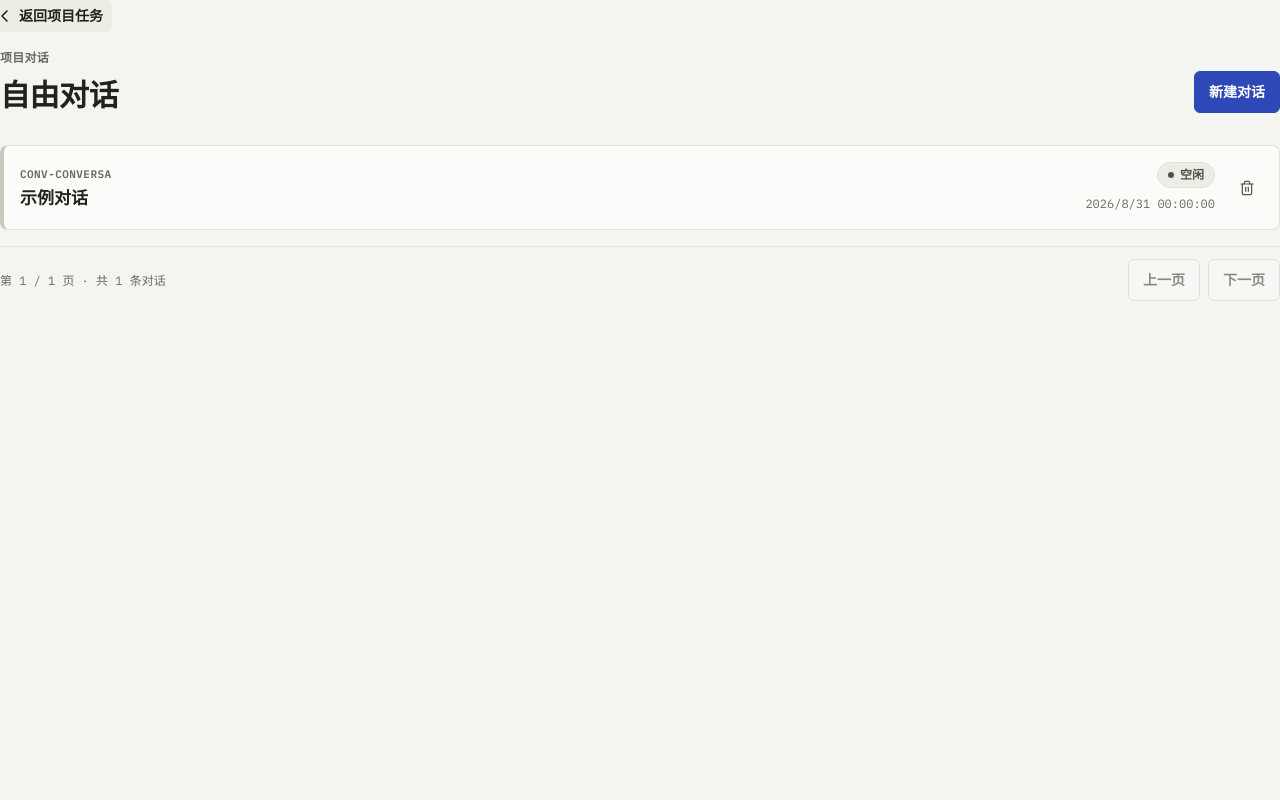
Scenario: ConversationListPage delete › confirms before deleting a conversation
This screenshot has width=1280, height=800.
Expected: the heading "示例对话" is shown, [20, 186, 88, 208]
Click the button named "删除对话 示例对话" at (1247, 188), box [1231, 172, 1263, 204]
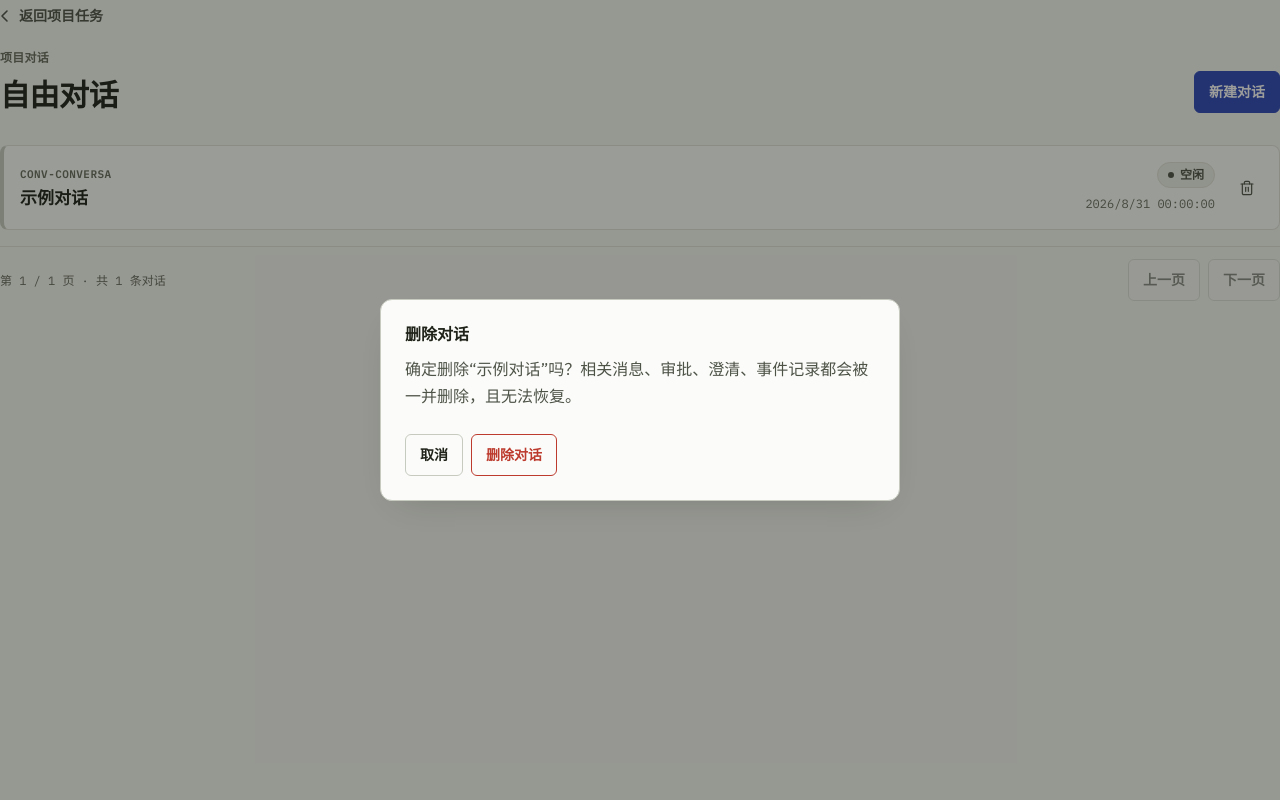
Expected: the dialog is shown, [380, 299, 900, 501]
Expected: the text "确定删除“示例对话”吗？相关消息、审批、澄清、事件记录都会被一并删除，且无法恢复。" is shown, [405, 356, 875, 410]
Click the button "删除对话" at (514, 455), box [471, 434, 557, 476]
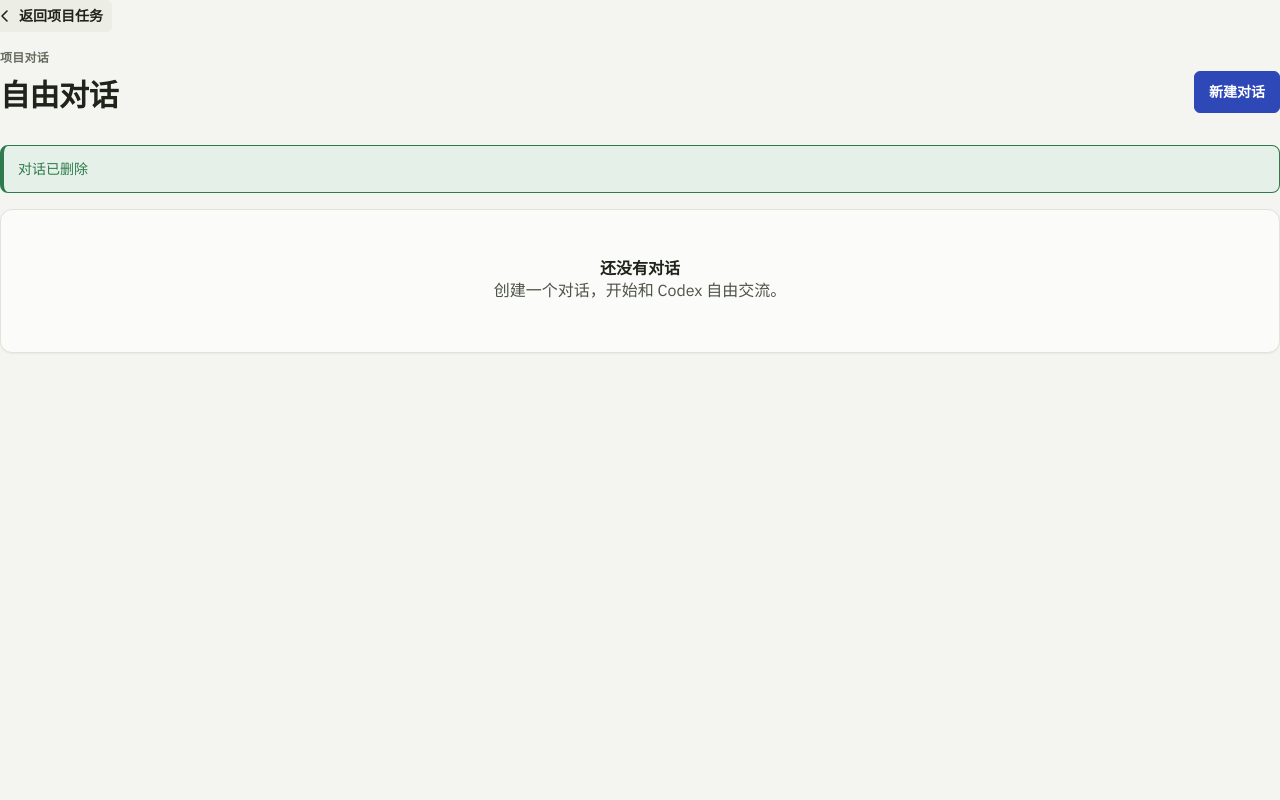
Expected: the text "对话已删除" is shown, [0, 145, 1279, 194]
Expected: the link "示例对话" is gone
